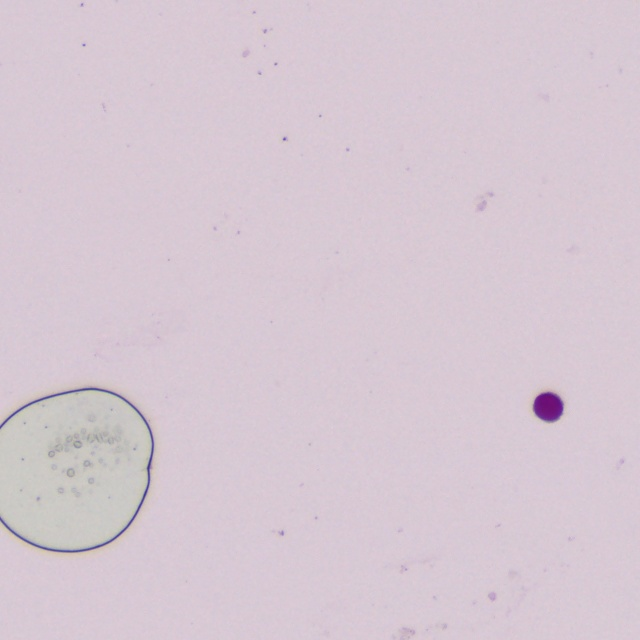viable: (534, 393, 563, 421)
